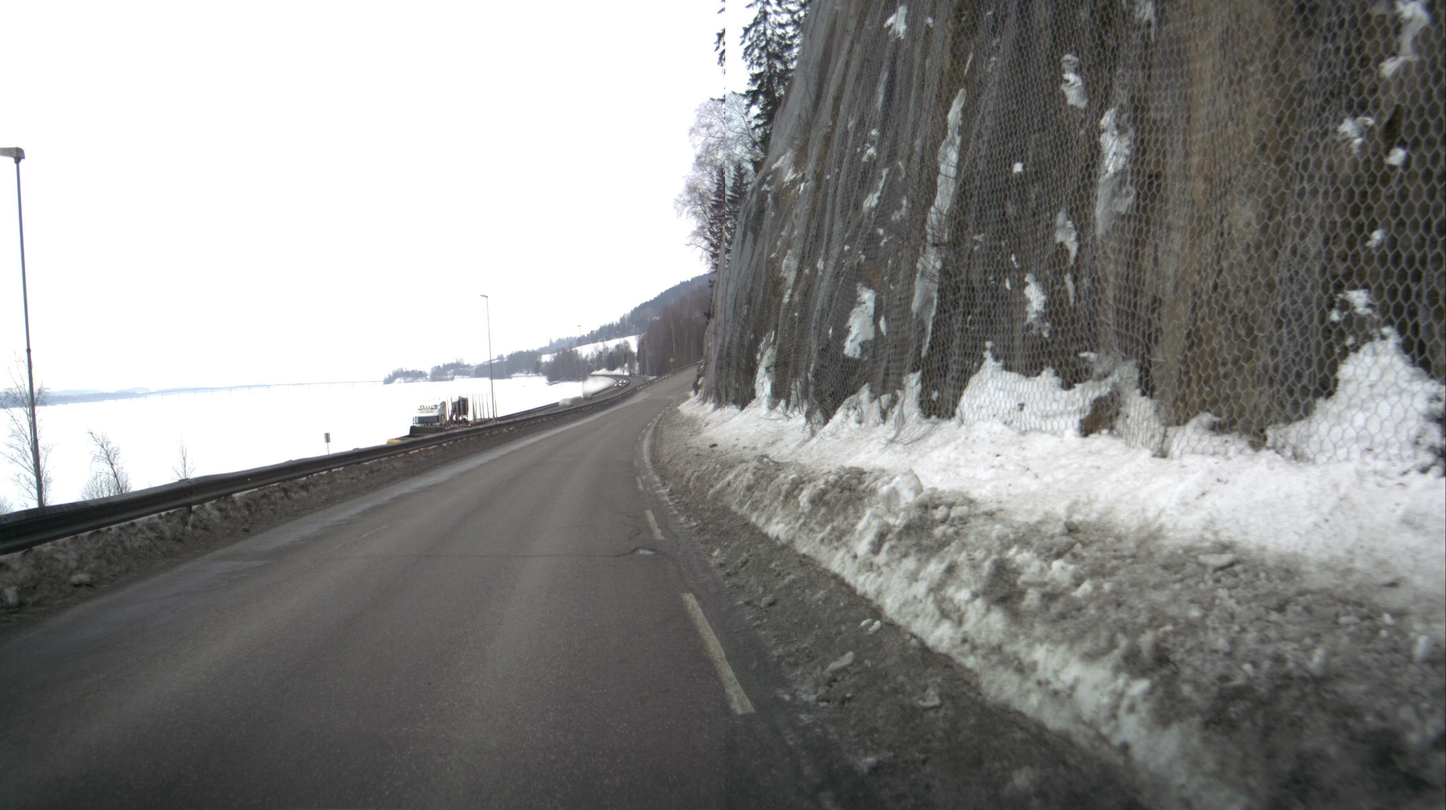pothole: (632, 545, 657, 556)
